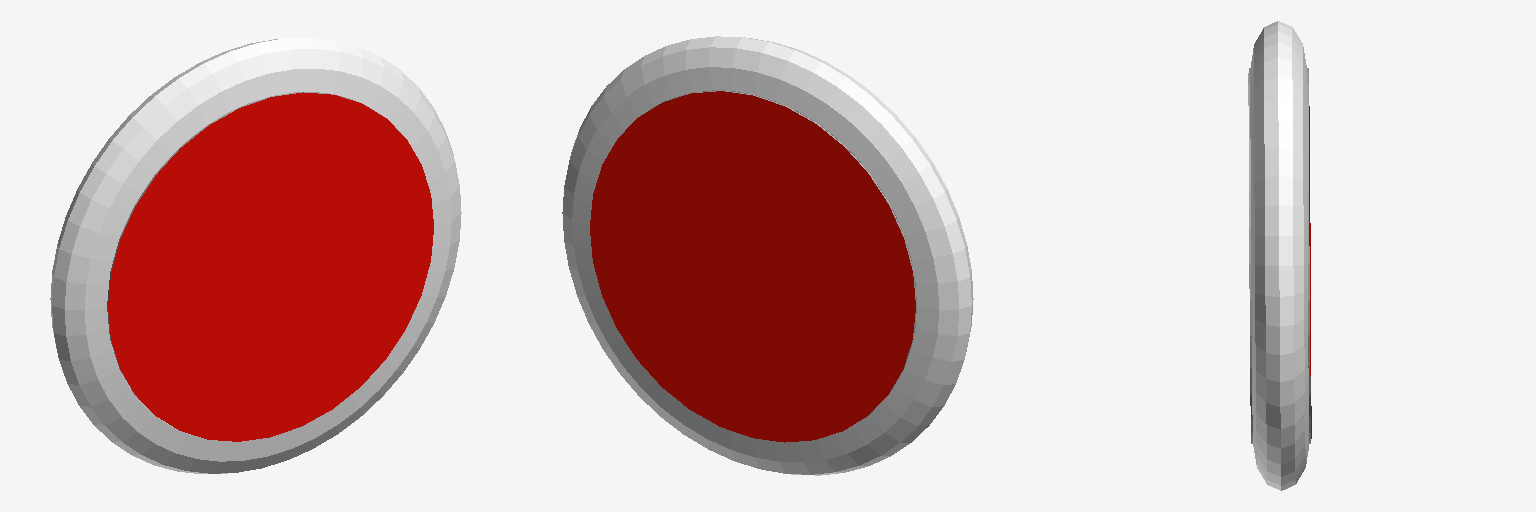
The picture shows the model from 3 angles: view 1: azimuth 30°, elevation 25°; view 2: azimuth 150°, elevation 25°; view 3: azimuth 270°, elevation 25°; orthographic projection.
Visible parts, largest first — view 1: 円柱; view 2: 円柱; view 3: 円柱.
Part boxes in pixels (x1,y1,x2,y2): 円柱: (50, 38, 461, 473); 円柱: (562, 36, 973, 475); 円柱: (1248, 21, 1311, 490).
Size of the model in its own units: 1.39 by 1.39 by 0.1861.
Materials: 1 (1 with a texture image).